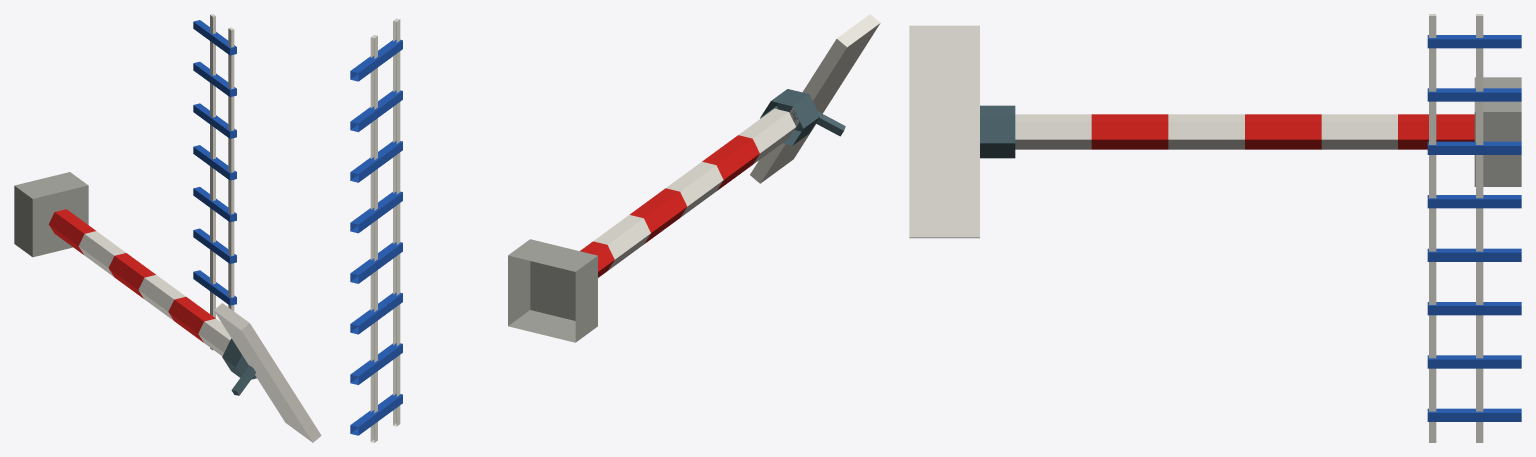
File: frame_4.glb
3 views of the same model, side by side, from view 1: azimuth 30°, elevation 25°; view 2: azimuth 150°, elevation 25°; view 3: azimuth 270°, elevation 25° (orthographic). The views are drawn at different scales.
Parts seen in each view (by area): view 1: t5_4_g31.004; view 2: t5_4_g31.004; view 3: t5_4_g31.004.
Part boxes in pixels (<box>): t5_4_g31.004: <box>14,14,321,442</box>; t5_4_g31.004: <box>350,14,880,442</box>; t5_4_g31.004: <box>909,14,1521,442</box>.
Size of the model in its own units: 9.94 by 16 by 20.8.
